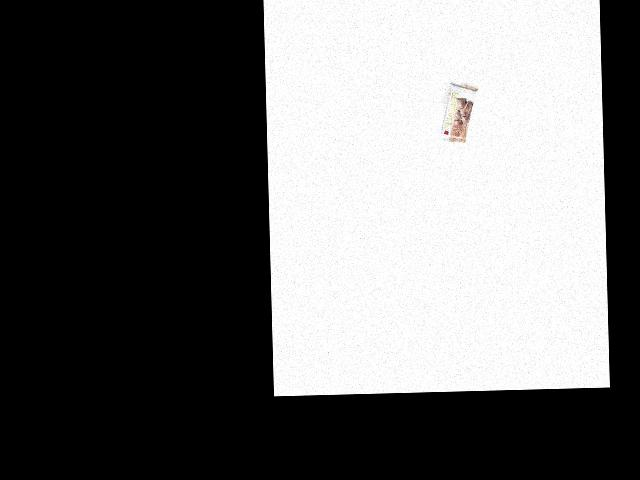chocolate: (435, 85, 483, 143)
